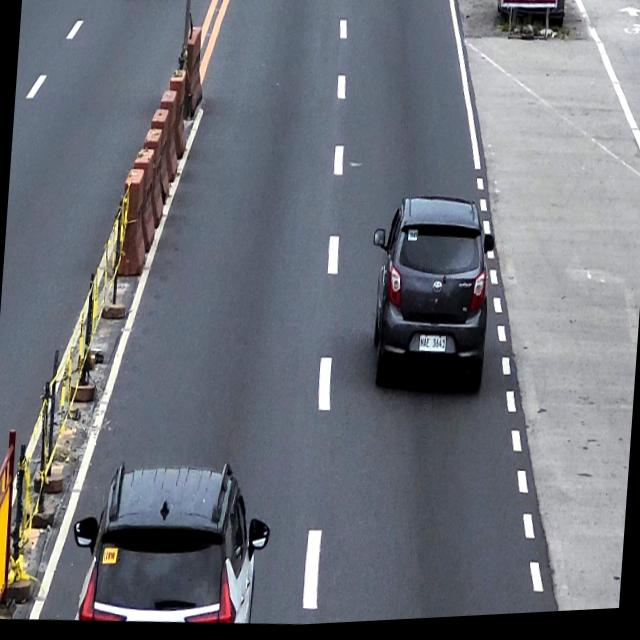Car: (66, 456, 272, 634), (363, 194, 497, 405)
License-Plate: (418, 338, 446, 358)
